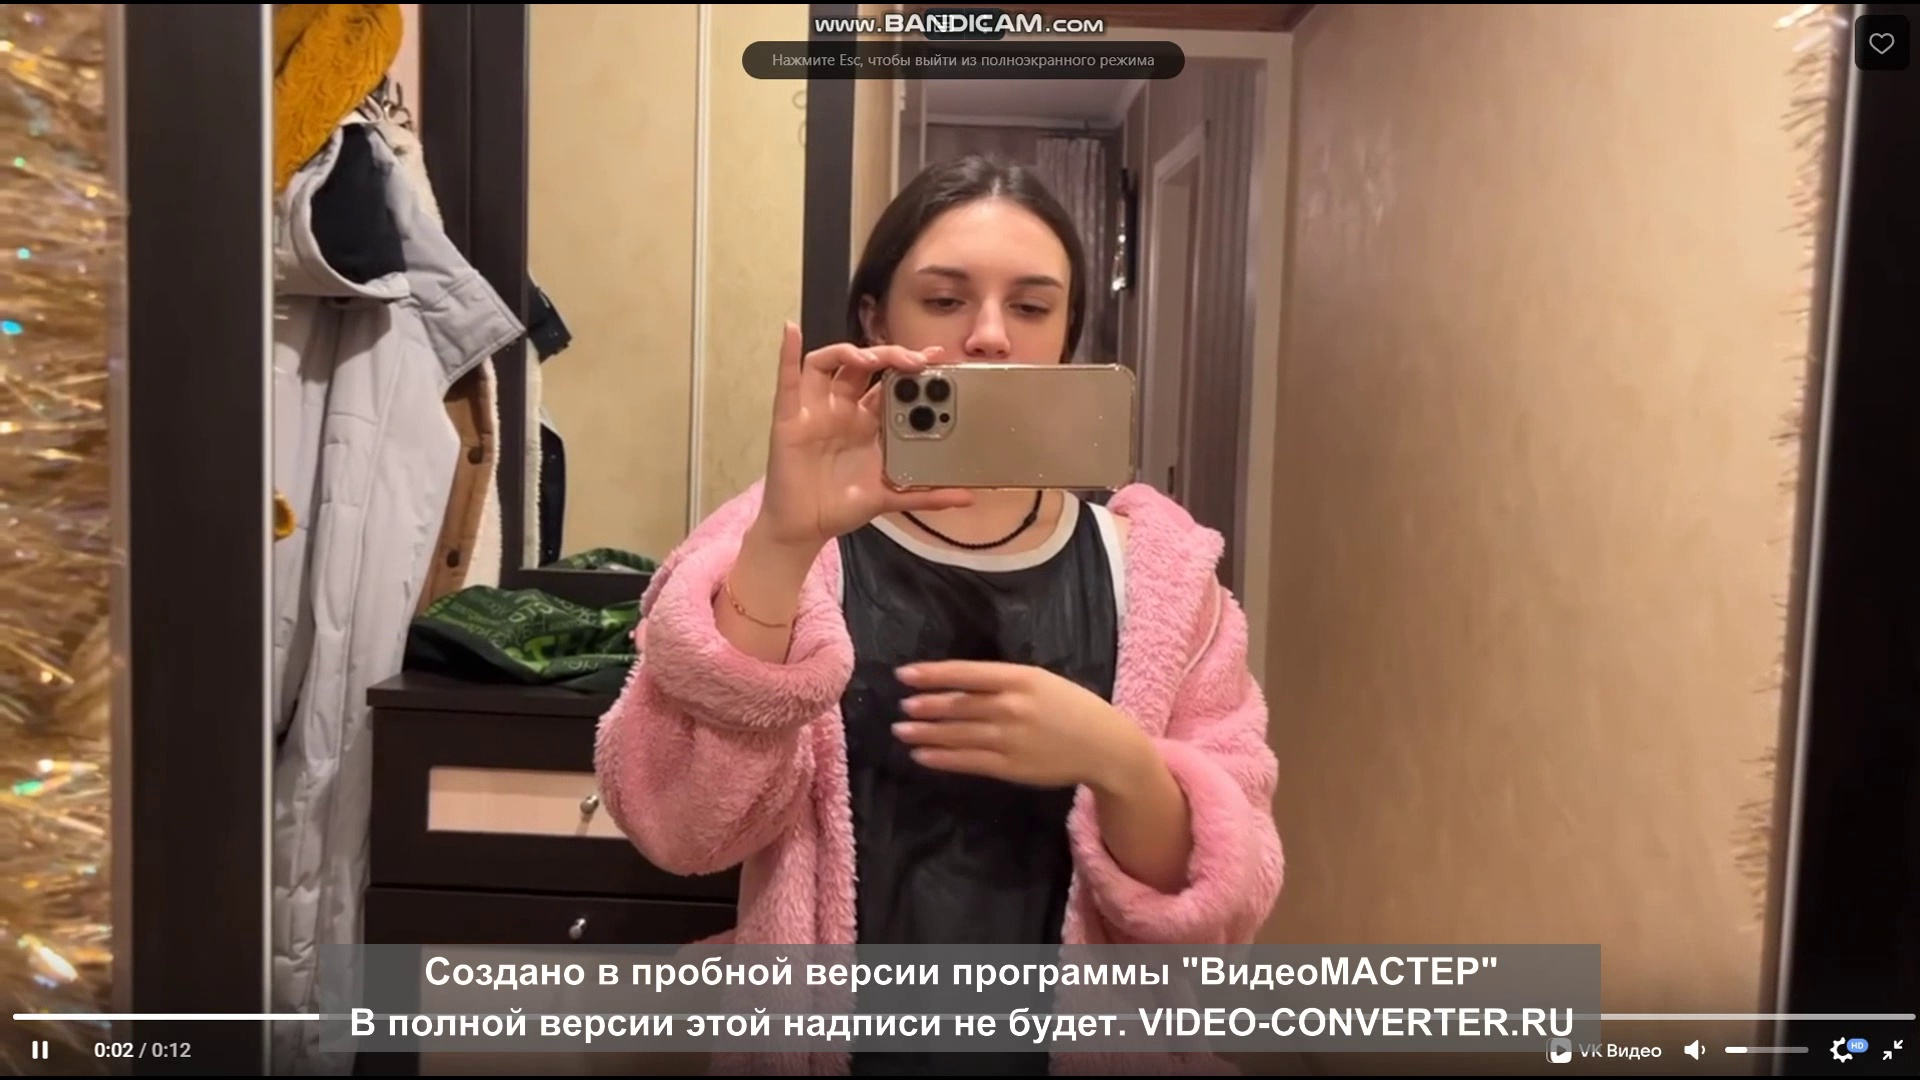Кисть: (887, 650, 1105, 787)
